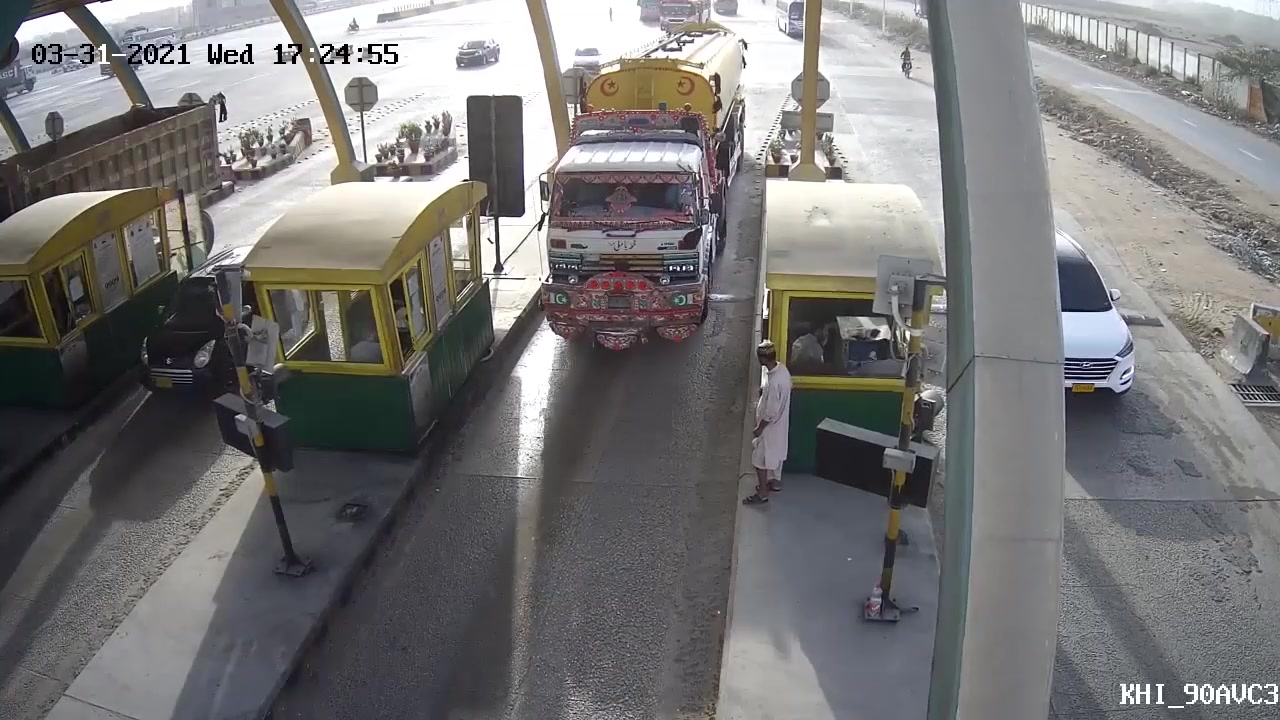F6: (531, 68, 729, 352)
